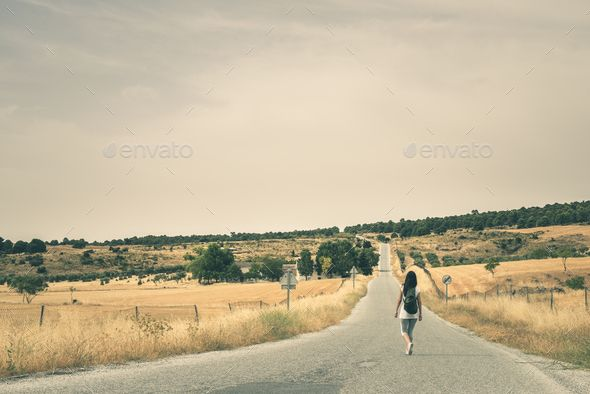Person: (392, 267, 428, 361)
Tree: (187, 239, 249, 288), (313, 238, 359, 277)
